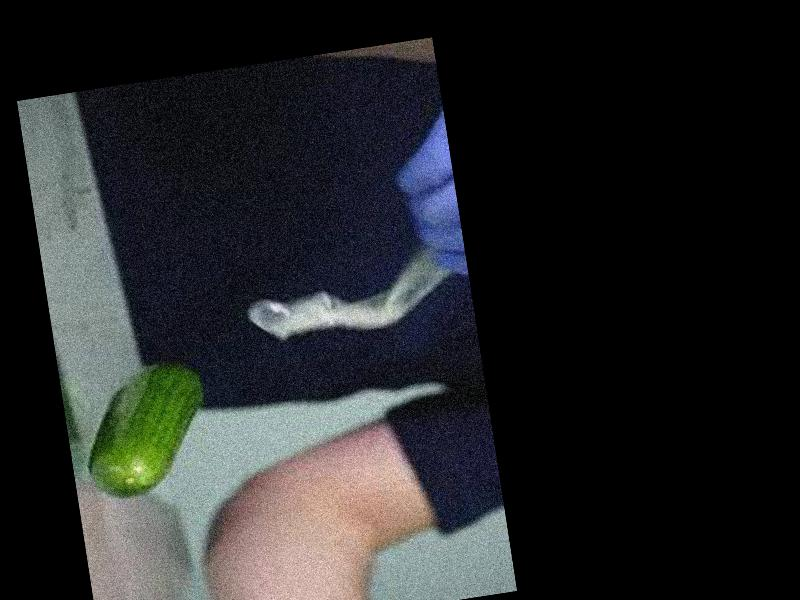Cucumber: (74, 358, 217, 503)
